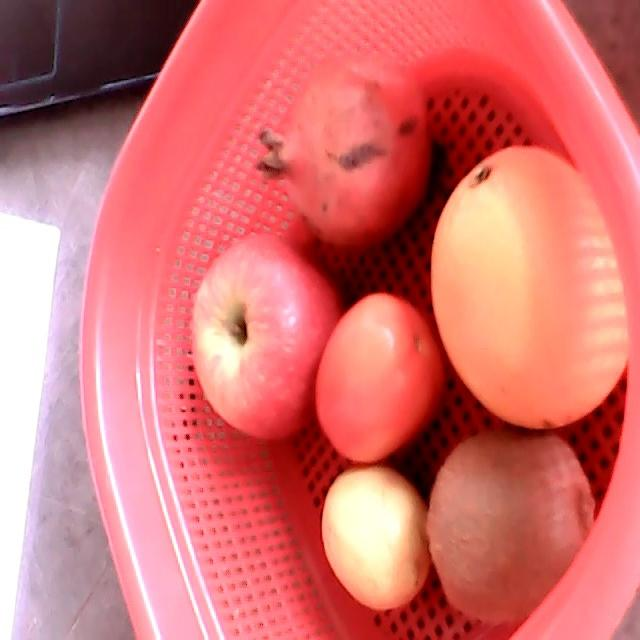apple: (190, 233, 342, 444)
kiwi: (424, 435, 596, 623)
lemon: (321, 465, 433, 611)
orange: (431, 144, 628, 428)
pomegranate: (257, 48, 430, 249)
tomato: (313, 289, 444, 463)
